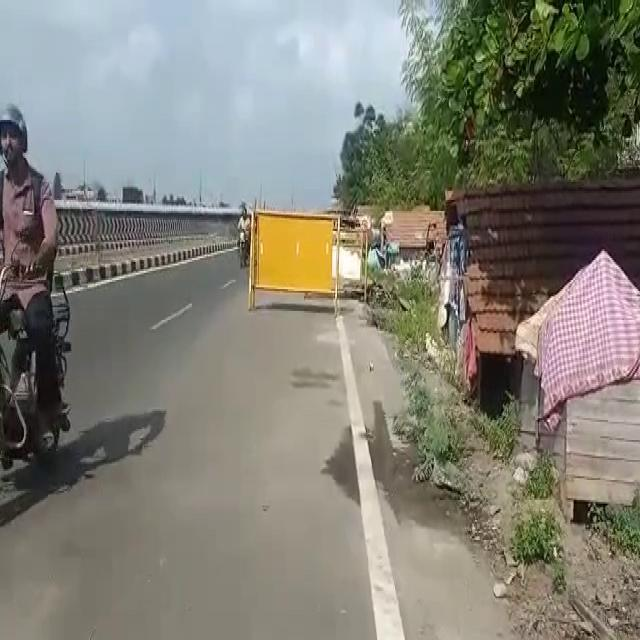fallen_object: (239, 196, 354, 330)
